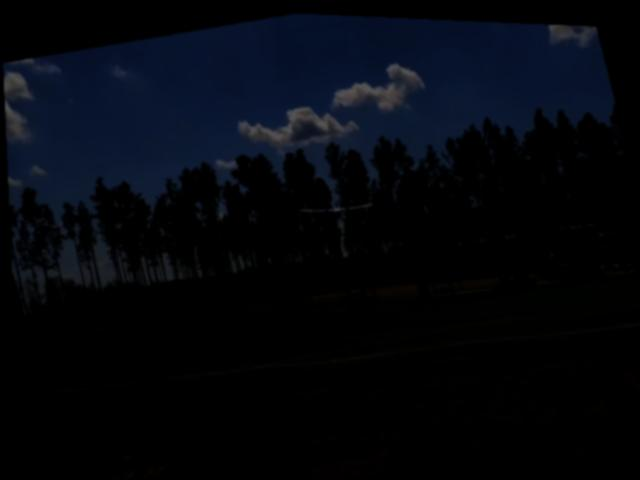plane: (293, 184, 371, 226)
